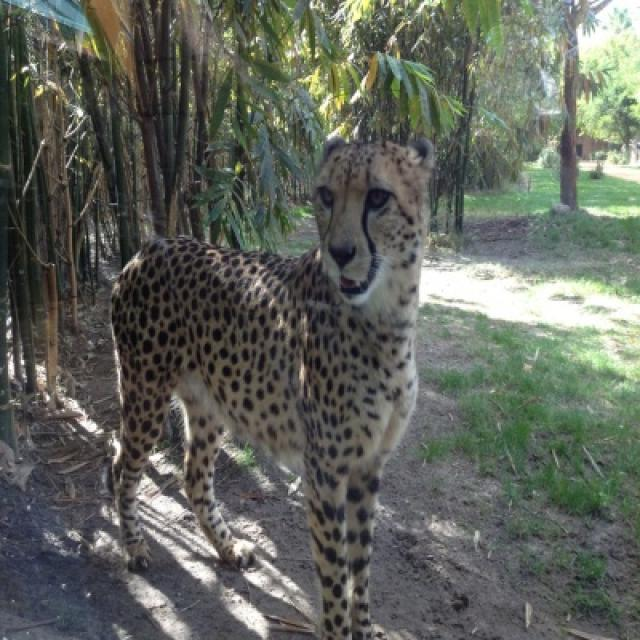Cheetah: (109, 136, 432, 638)
